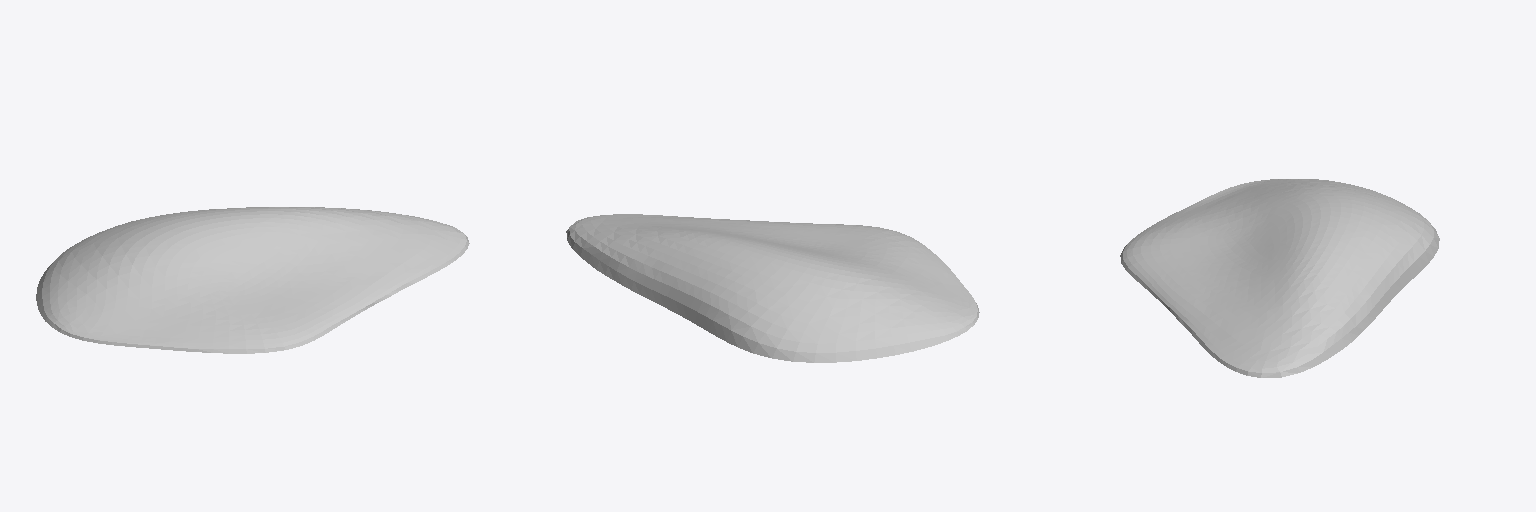
File: Sand.obj
3 renders of one model, left to right at view 1: azimuth 30°, elevation 25°; view 2: azimuth 150°, elevation 25°; view 3: azimuth 270°, elevation 25°, orthographic.
Parts seen in each view (by area): view 1: ZBrush_defualt_group; view 2: ZBrush_defualt_group; view 3: ZBrush_defualt_group.
Part boxes in pixels (left/top/right/bottom): ZBrush_defualt_group: left=36, top=207, right=469, bottom=353; ZBrush_defualt_group: left=566, top=214, right=979, bottom=362; ZBrush_defualt_group: left=1120, top=179, right=1439, bottom=377.
Bounding box in the file's own units: 2 × 0.2249 × 1.37.